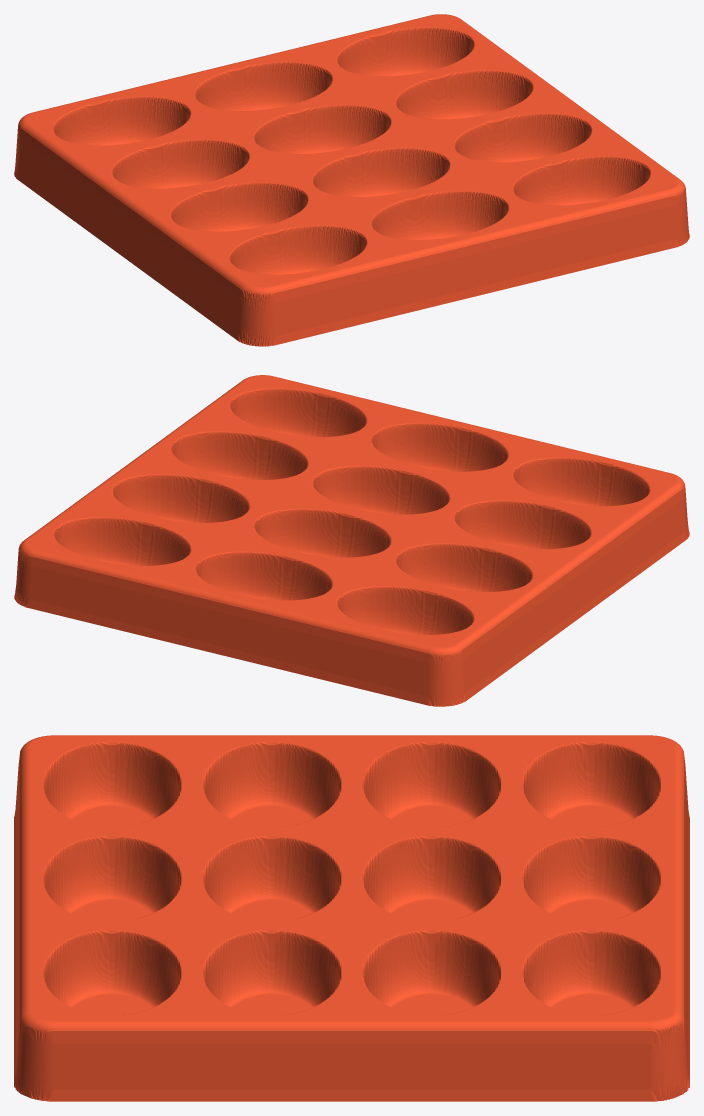
File: mold.glb
The picture shows the model from 3 angles, top to bottom: view 1: azimuth 30°, elevation 25°; view 2: azimuth 150°, elevation 25°; view 3: azimuth 270°, elevation 25°; orthographic projection. The views are drawn at different scales.
Visible parts, largest first — view 1: geometry_0; view 2: geometry_0; view 3: geometry_0.
Boxes of the visible parts, x1,y1,x2,y2 form: geometry_0: [14, 14, 689, 346]; geometry_0: [14, 375, 689, 706]; geometry_0: [14, 735, 689, 1101].
Bounding box in the file's own units: 0.1598 × 0.0185 × 0.1531.
